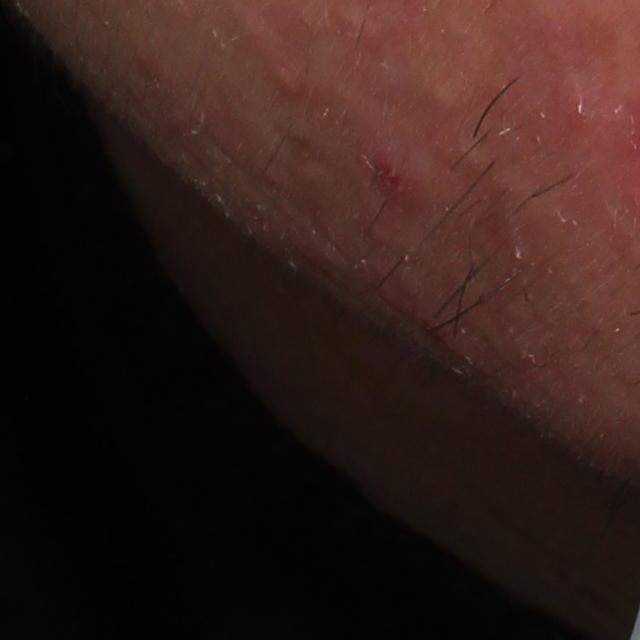papule: (357, 154, 432, 213)
